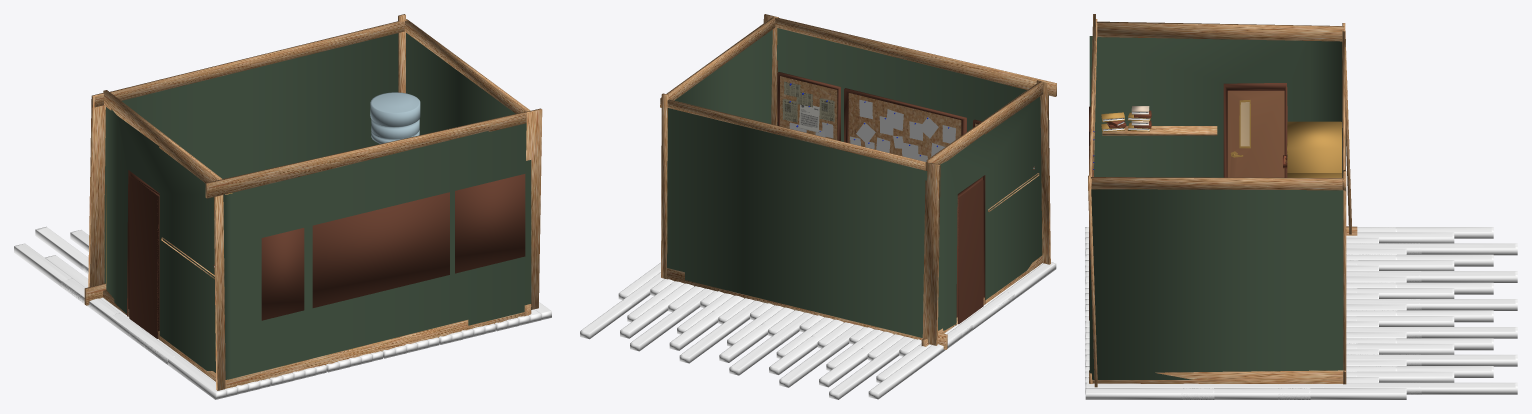
Rendered from ClutteredOffice.glb.
3 renders of one model, left to right at view 1: azimuth 30°, elevation 25°; view 2: azimuth 150°, elevation 25°; view 3: azimuth 270°, elevation 25°, orthographic. The views are drawn at different scales.
Visible parts, largest first — view 1: GreenWalls, WoodFrame, CorkFrame, Flooring, Door, WaterTank, DoorFrame; view 2: GreenWalls, Flooring, WoodFrame, corkboard, Door, CorkFrame, DoorFrame, Exposition; view 3: GreenWalls, Flooring, WoodFrame, Door, SmallCabinet.001, DoorFrame, plank.
Boxes of the visible parts, left/top/right/bottom form: GreenWalls: left=104, top=33, right=531, bottom=379; WoodFrame: left=84, top=14, right=542, bottom=390; CorkFrame: left=261, top=174, right=525, bottom=320; Flooring: left=14, top=226, right=551, bottom=399; Door: left=129, top=176, right=159, bottom=338; WaterTank: left=370, top=92, right=420, bottom=143; DoorFrame: left=127, top=170, right=159, bottom=339; GreenWalls: left=667, top=28, right=1042, bottom=337; Flooring: left=580, top=262, right=1056, bottom=399; WoodFrame: left=660, top=14, right=1056, bottom=349; corkboard: left=780, top=76, right=977, bottom=158; Door: left=957, top=180, right=983, bottom=323; CorkFrame: left=777, top=72, right=981, bottom=142; DoorFrame: left=955, top=175, right=985, bottom=325; Exposition: left=799, top=104, right=819, bottom=132; GreenWalls: left=1089, top=36, right=1345, bottom=379; Flooring: left=1085, top=227, right=1517, bottom=399; WoodFrame: left=1088, top=14, right=1357, bottom=387; Door: left=1227, top=89, right=1284, bottom=177; SmallCabinet.001: left=1282, top=121, right=1341, bottom=172; DoorFrame: left=1223, top=83, right=1287, bottom=177; plank: left=1102, top=126, right=1217, bottom=135.
Size of the model in its own units: 4.94 by 2.98 by 5.35.
8 materials, 6 textured.
